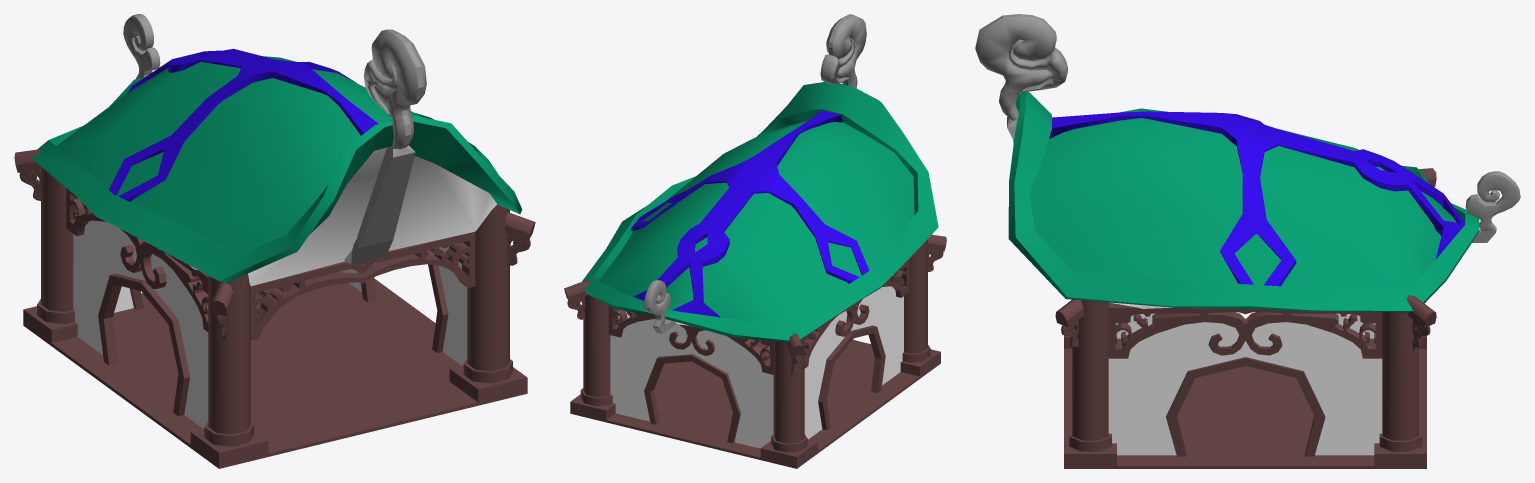
File: Water House F.fbx
3 renders of one model, left to right at view 1: azimuth 30°, elevation 25°; view 2: azimuth 150°, elevation 25°; view 3: azimuth 270°, elevation 25°, orthographic. The views are drawn at different scales.
Parts seen in each view (by area): view 1: Box001.001, Object013.001, Object024, Object015.001, Object020, Object022.001, Object, Object019.001, Object014.001, Object025, Object023, Object017.001 (+1 smaller); view 2: Object013.001, Object015.001, Box001.001, Object014.001, Object022, Object024, Object022.001, Object019.001, Object, Object025, Object023, Object026 (+2 smaller); view 3: Object013.001, Object022.001, Object015.001, Box001.001, Object014.001, Object024, Object, Object019.001, Object025, Object023, Object017.001, Object018.001.
Boxes of the visible parts, <box> form: Box001.001: <box>23,279,527,468</box>; Object013.001: <box>56,56,422,253</box>; Object024: <box>41,167,509,434</box>; Object015.001: <box>31,77,522,282</box>; Object020: <box>189,147,496,286</box>; Object022.001: <box>73,220,467,428</box>; Object: <box>123,14,426,264</box>; Object019.001: <box>66,188,475,340</box>; Object014.001: <box>109,48,378,201</box>; Object025: <box>23,299,527,465</box>; Object023: <box>98,250,448,416</box>; Object017.001: <box>14,149,535,315</box>; Object013.001: <box>599,120,914,326</box>; Object015.001: <box>582,82,938,342</box>; Box001.001: <box>570,339,940,468</box>; Object014.001: <box>631,110,869,317</box>; Object022: <box>610,319,773,448</box>; Object024: <box>583,239,927,443</box>; Object022.001: <box>618,286,903,439</box>; Object019.001: <box>608,259,909,374</box>; Object: <box>643,14,866,333</box>; Object025: <box>570,345,940,466</box>; Object023: <box>818,325,885,430</box>; Object026: <box>644,354,740,443</box>; Object013.001: <box>1029,108,1456,290</box>; Object022.001: <box>1108,313,1382,455</box>; Object015.001: <box>1008,91,1479,312</box>; Box001.001: <box>1064,338,1426,468</box>; Object014.001: <box>1049,111,1464,286</box>; Object024: <box>1072,300,1418,440</box>; Object: <box>975,14,1520,242</box>; Object019.001: <box>1108,302,1382,358</box>; Object025: <box>1064,333,1426,465</box>; Object023: <box>1166,357,1325,456</box>; Object017.001: <box>1055,168,1436,327</box>; Object018.001: <box>1061,320,1430,351</box>.
Bounding box in the file's own units: 227 × 253 × 325.
